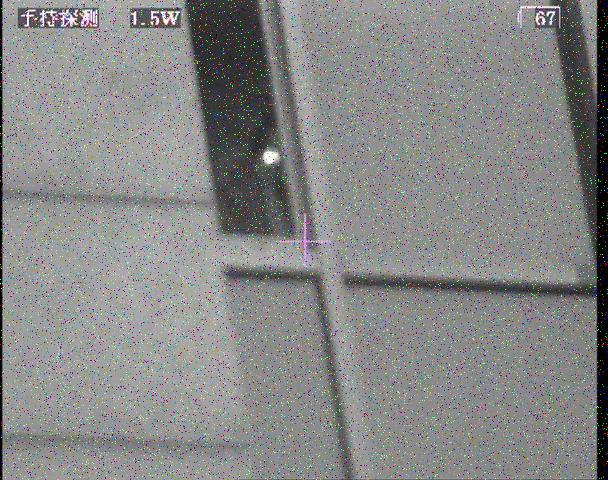my: (261, 147, 281, 166)
